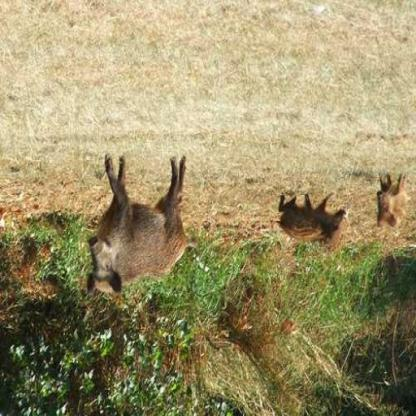boar: (92, 156, 207, 300), (250, 186, 352, 263), (366, 155, 415, 240)
